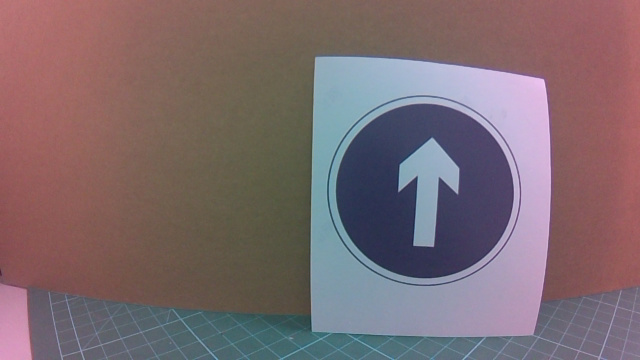forward: (334, 90, 530, 296)
